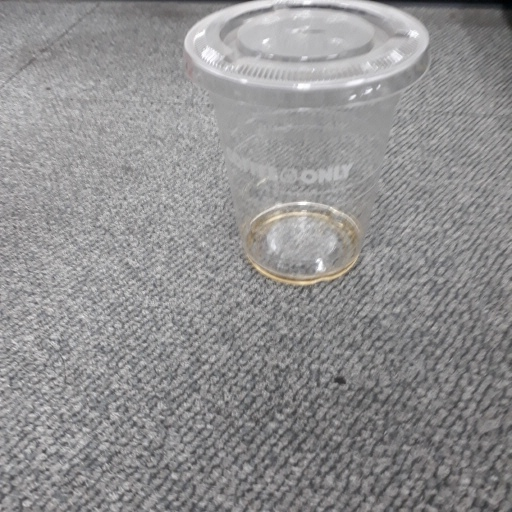Plastic_2: (185, 1, 432, 287)
